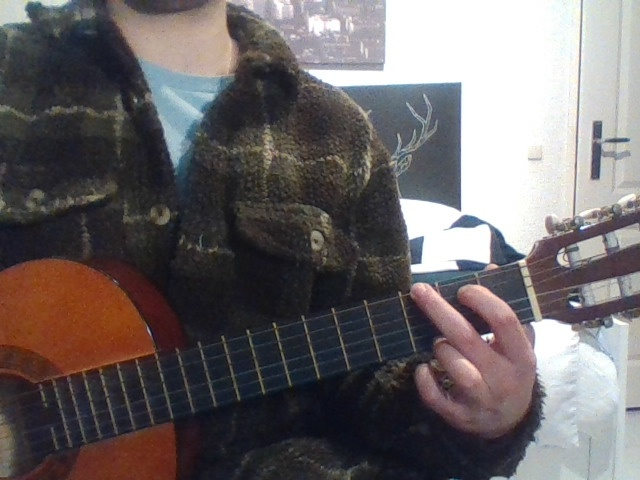G: (390, 261, 563, 450)
